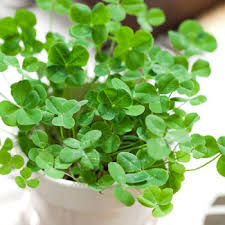4-clover: (46, 42, 87, 88), (114, 26, 153, 71), (62, 130, 104, 170), (70, 3, 111, 42)
